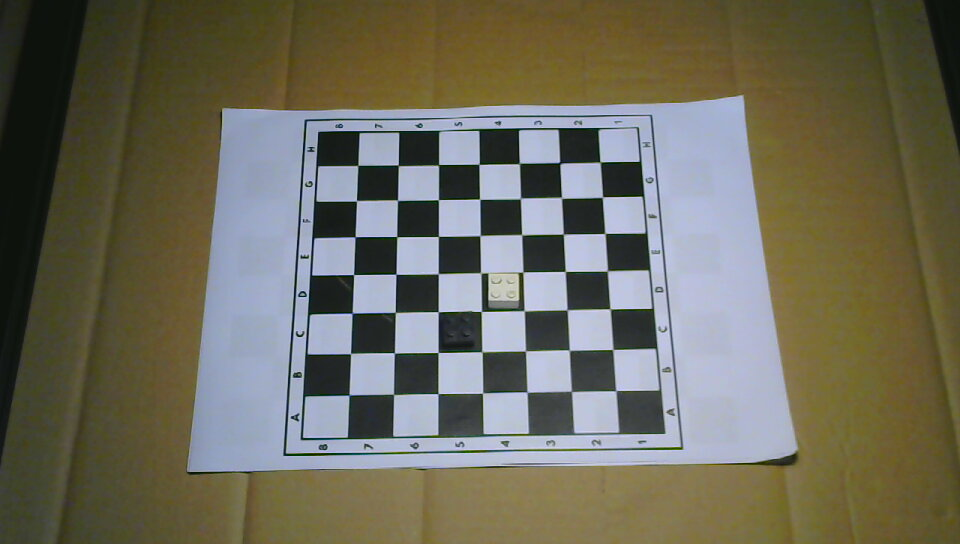bp: (442, 312, 476, 349)
wp: (486, 271, 520, 309)
